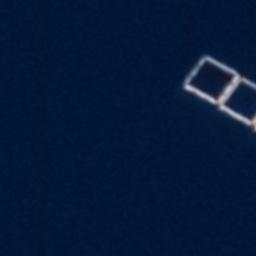square_solid: (177, 50, 245, 113), (211, 72, 256, 132)
